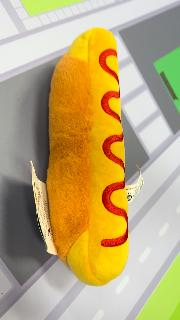hotdog: (46, 27, 130, 287)
